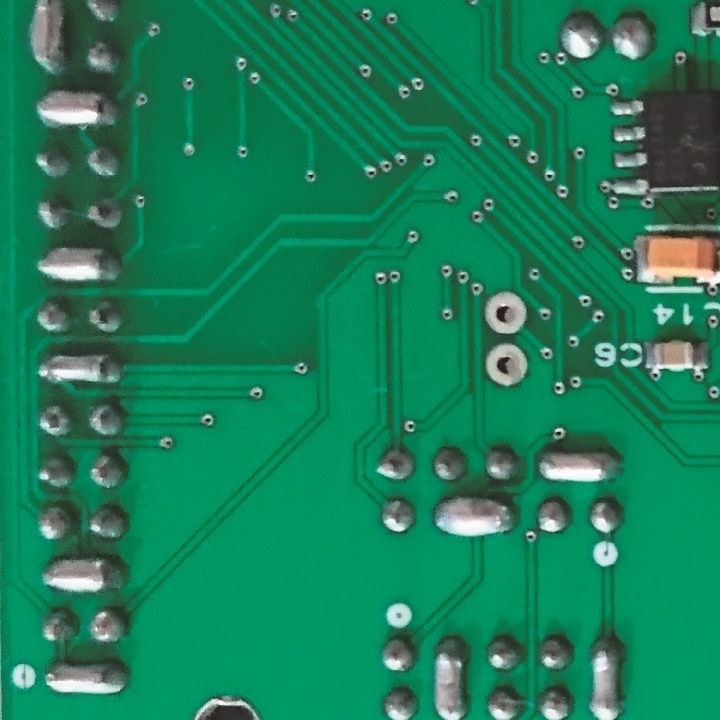F: (482, 341, 530, 390), (482, 289, 527, 336)
P: (28, 84, 119, 135), (34, 240, 124, 291), (428, 631, 476, 720), (34, 347, 127, 392), (538, 443, 627, 490), (430, 493, 516, 541), (39, 555, 129, 597), (41, 658, 135, 698), (28, 1, 70, 83), (587, 634, 627, 720)
